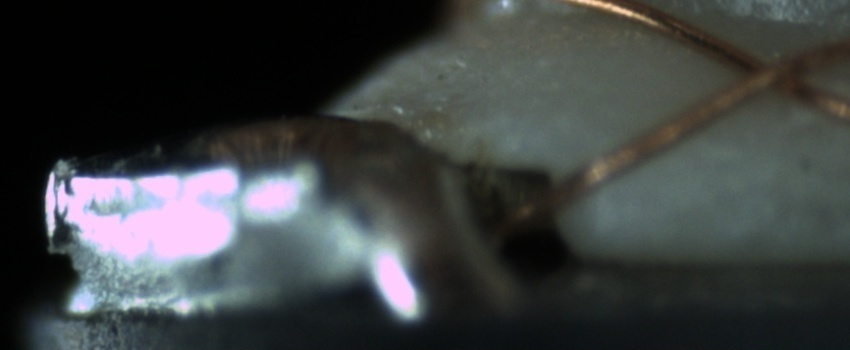CL: (722, 40, 816, 106)
